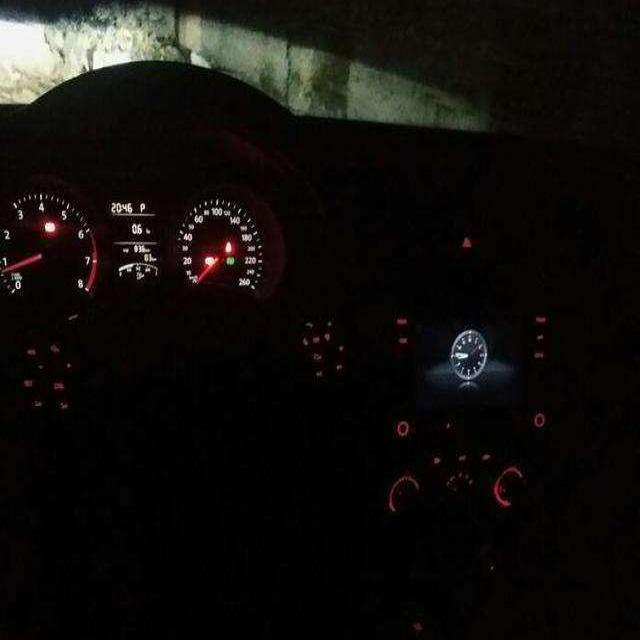other: (390, 453, 526, 511), (200, 238, 239, 290)
